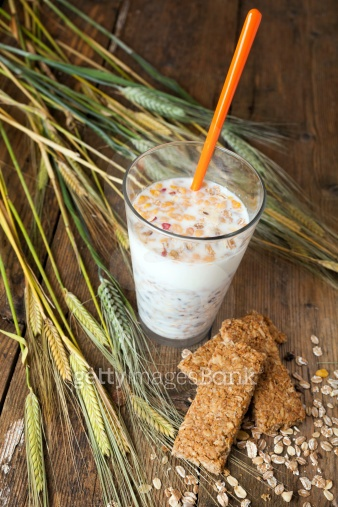glass of milk: (124, 134, 270, 359)
